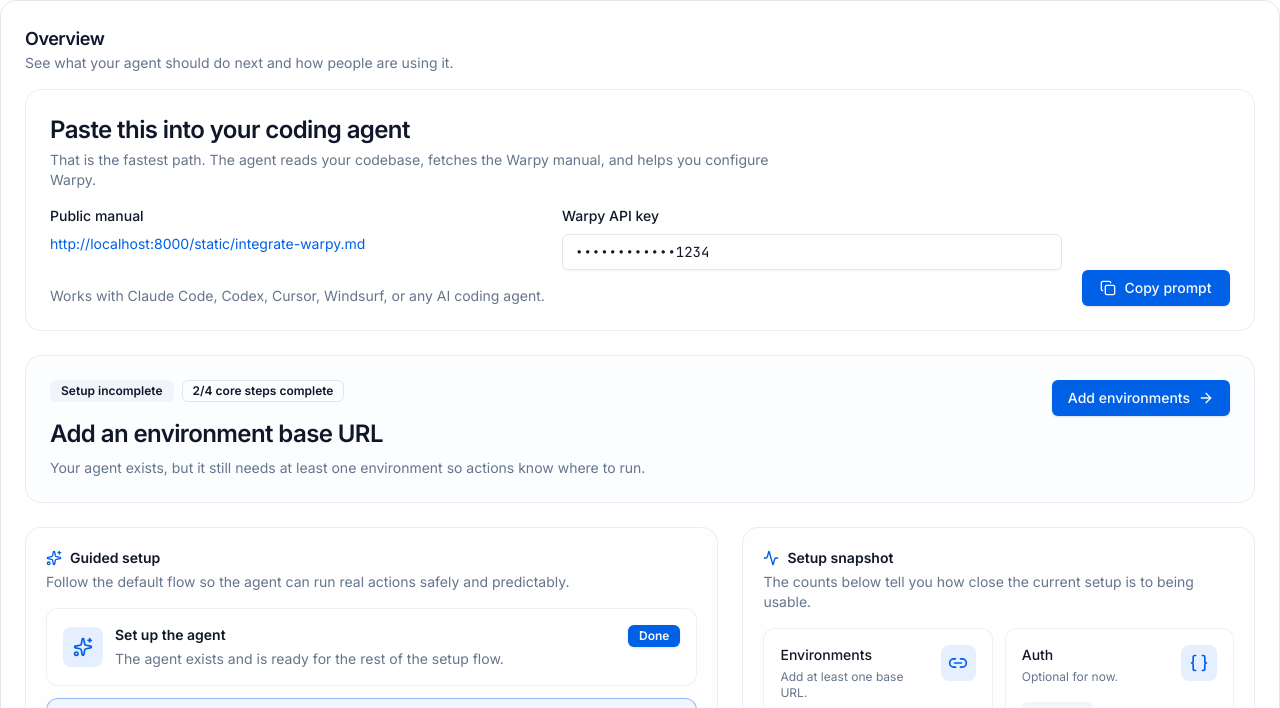
DashboardPanel › copies the overview agent prompt
What coordinates should you click on to do the following:
click the button "Copy prompt"
I would click on:
 (1156, 288)
Its box is [1082,270,1230,306].
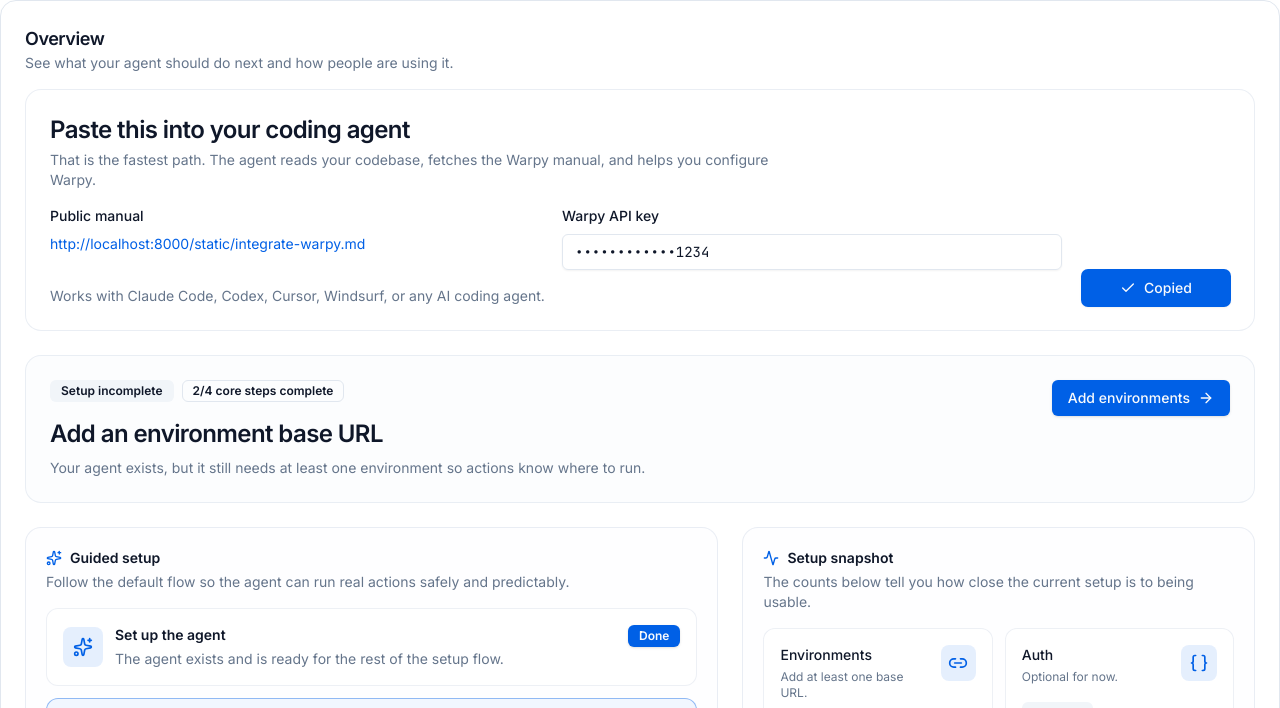
Result: the button "Copied" is shown at [1082,270,1230,306]
